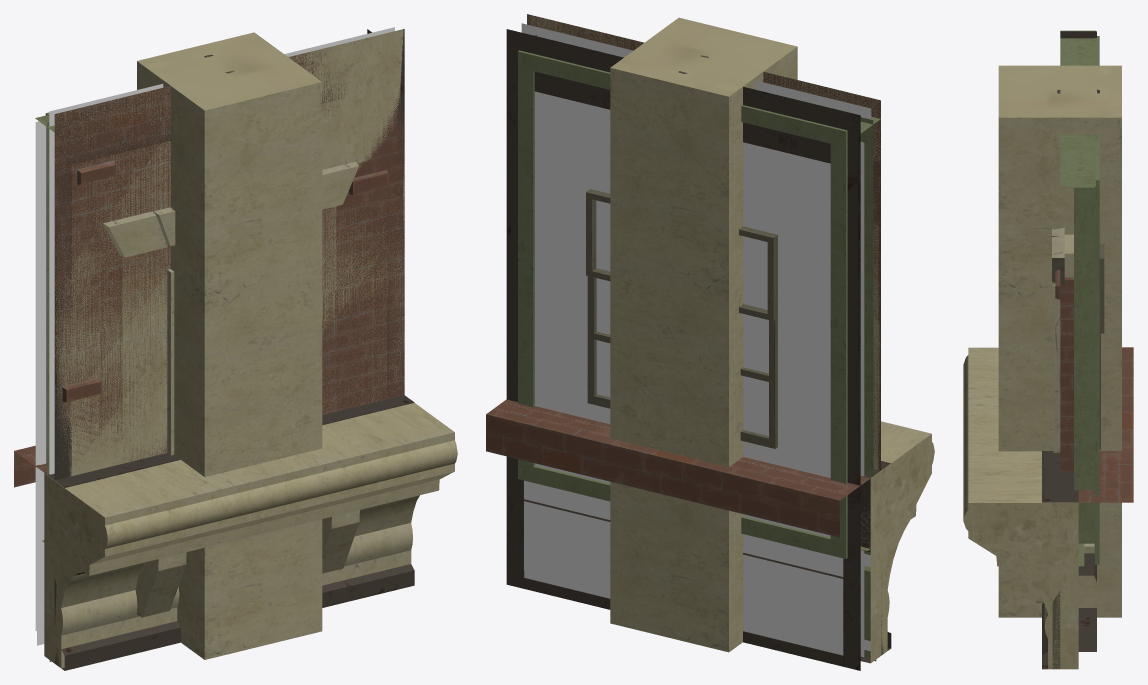
The model's file is facades.glb.
3 views of the same model, side by side, from view 1: azimuth 30°, elevation 25°; view 2: azimuth 150°, elevation 25°; view 3: azimuth 270°, elevation 25° (orthographic). The views are drawn at different scales.
Visible parts, largest first — view 1: Trim_Column_Center, Cornice_Trim_Center, Brick_Window_Trim_Single, Brick_Plain_3, Brick_BottomTrim, Trim_Plain_3, Trim_FirstFloor_Wall, Trim_Window, Brick_Window_Square_Single, Metal_FullWindow, Cornice_Metal_Center, Metal_FirstFloor_Window (+2 smaller); view 2: Trim_FirstFloor_Window_001, Trim_Column_Center, Cornice_Brick_Center, Metal_FullWindow, Metal_FirstFloor_Window, Trim_Window, Cornice_Trim_Center, Brick_Window_Square_Single, Brick_Plain_3, Brick_Window_Trim_Single, Trim_Plain_3, Cornice_Metal_Center; view 3: Trim_Column_Center, Cornice_Trim_Center, Trim_FirstFloor_Window_001, Brick_Window_Trim_Single, Cornice_Brick_Center, Cornice_Metal_Center, Metal_FirstFloor_Window, Brick_Window_Square_Single, Trim_Window, Metal_FullWindow, Trim_FirstFloor_Wall.
Part boxes in pixels (x1,y1,x2,y2): Trim_Column_Center: (137, 32, 322, 659); Cornice_Trim_Center: (44, 403, 457, 668); Brick_Window_Trim_Single: (39, 34, 404, 630); Brick_Plain_3: (54, 29, 404, 454); Brick_BottomTrim: (55, 50, 404, 454); Trim_Plain_3: (54, 29, 404, 476); Trim_FirstFloor_Wall: (54, 92, 404, 664); Trim_Window: (37, 30, 404, 645); Brick_Window_Square_Single: (54, 55, 404, 472); Metal_FullWindow: (50, 29, 404, 479); Cornice_Metal_Center: (44, 395, 414, 670); Metal_FirstFloor_Window: (49, 27, 404, 666); Trim_FirstFloor_Window_001: (518, 15, 880, 661); Trim_Column_Center: (610, 17, 797, 652); Cornice_Brick_Center: (486, 399, 870, 537); Metal_FullWindow: (506, 29, 870, 670); Metal_FirstFloor_Window: (507, 23, 884, 655); Trim_Window: (524, 16, 880, 655); Cornice_Trim_Center: (860, 421, 934, 662); Brick_Window_Square_Single: (527, 15, 880, 657); Brick_Plain_3: (527, 14, 880, 450); Brick_Window_Trim_Single: (527, 14, 880, 470); Trim_Plain_3: (528, 15, 880, 469); Cornice_Metal_Center: (860, 461, 891, 663); Trim_Column_Center: (998, 65, 1121, 617); Cornice_Trim_Center: (963, 347, 1078, 669); Trim_FirstFloor_Window_001: (1060, 30, 1099, 566); Brick_Window_Trim_Single: (1052, 227, 1094, 553); Cornice_Brick_Center: (1078, 347, 1133, 502); Cornice_Metal_Center: (1042, 451, 1078, 669); Metal_FirstFloor_Window: (1052, 31, 1099, 669); Brick_Window_Square_Single: (1053, 284, 1060, 452); Trim_Window: (1064, 234, 1104, 449); Metal_FullWindow: (1078, 89, 1099, 651); Trim_FirstFloor_Wall: (1051, 523, 1060, 668).
Size of the model in its own units: 2.67 by 4.01 by 1.24.
Materials: 8 (6 with a texture image).
